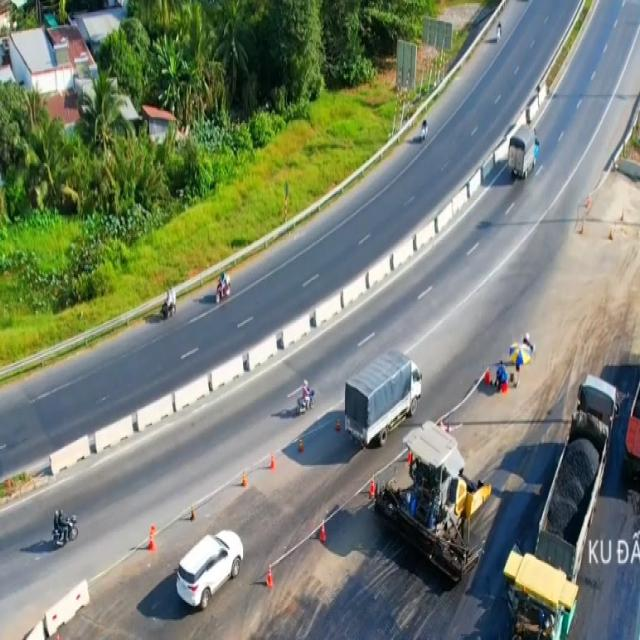car: (175, 530, 244, 616)
motorbike: (52, 508, 78, 548), (296, 378, 316, 412), (215, 269, 229, 306), (162, 287, 176, 321)
truck: (346, 351, 422, 447), (509, 124, 539, 183)
